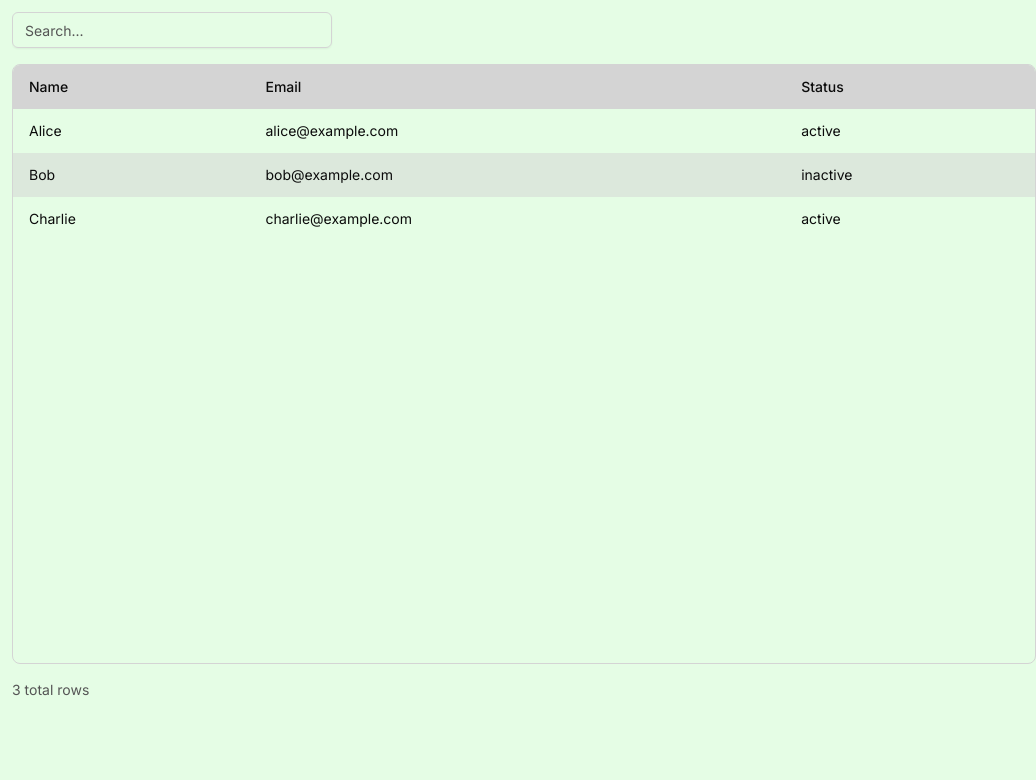
Test: VirtualDataTable › filtering › should update row count after filtering
This screenshot has width=1036, height=780.
In the field with placeholder "Search...": (172, 30) [12,12,332,48], type "Alice"
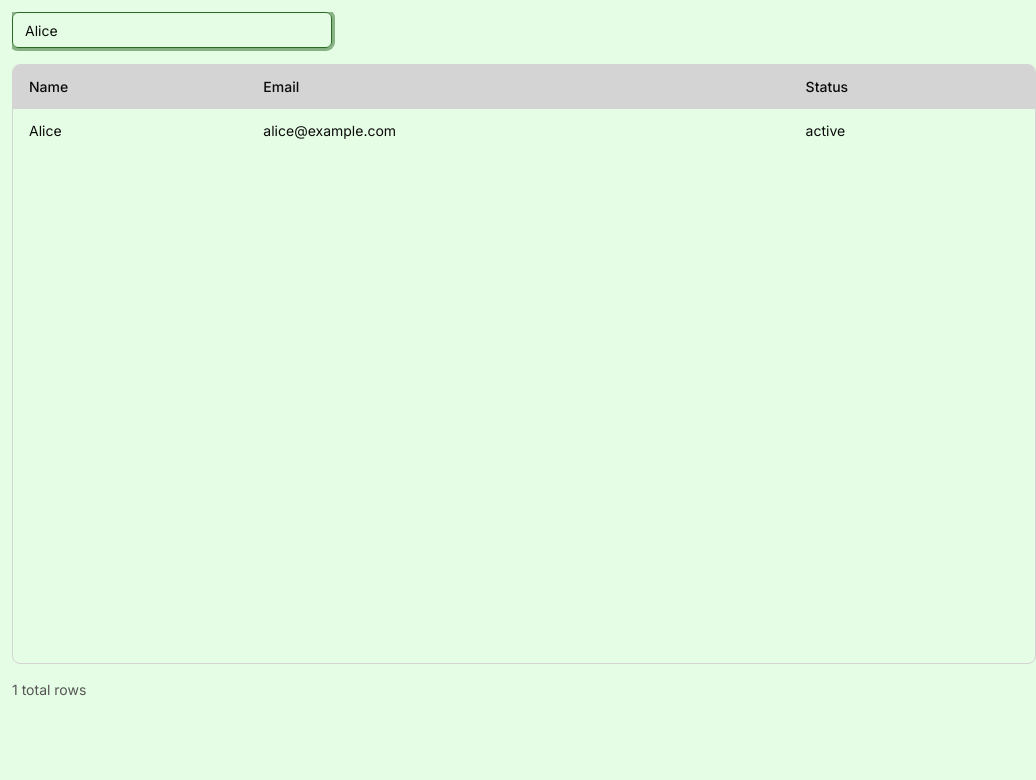
Expected: the text "1 total rows" is shown, [12,681,86,698]
